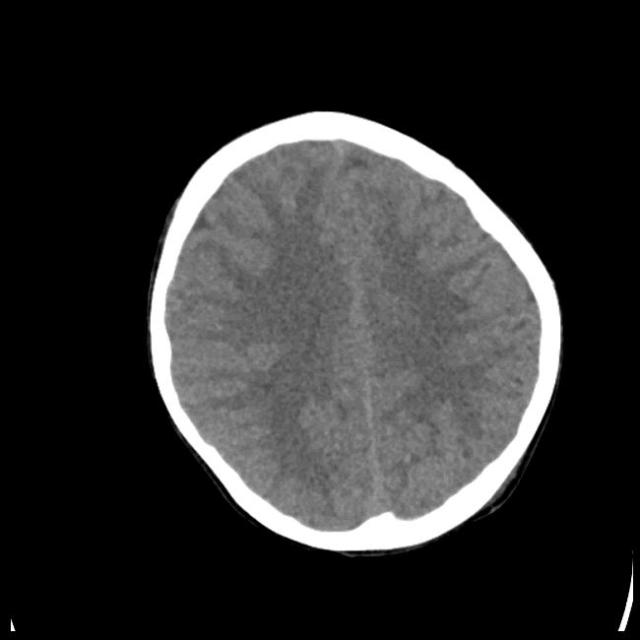lesion: (144, 109, 565, 556)
